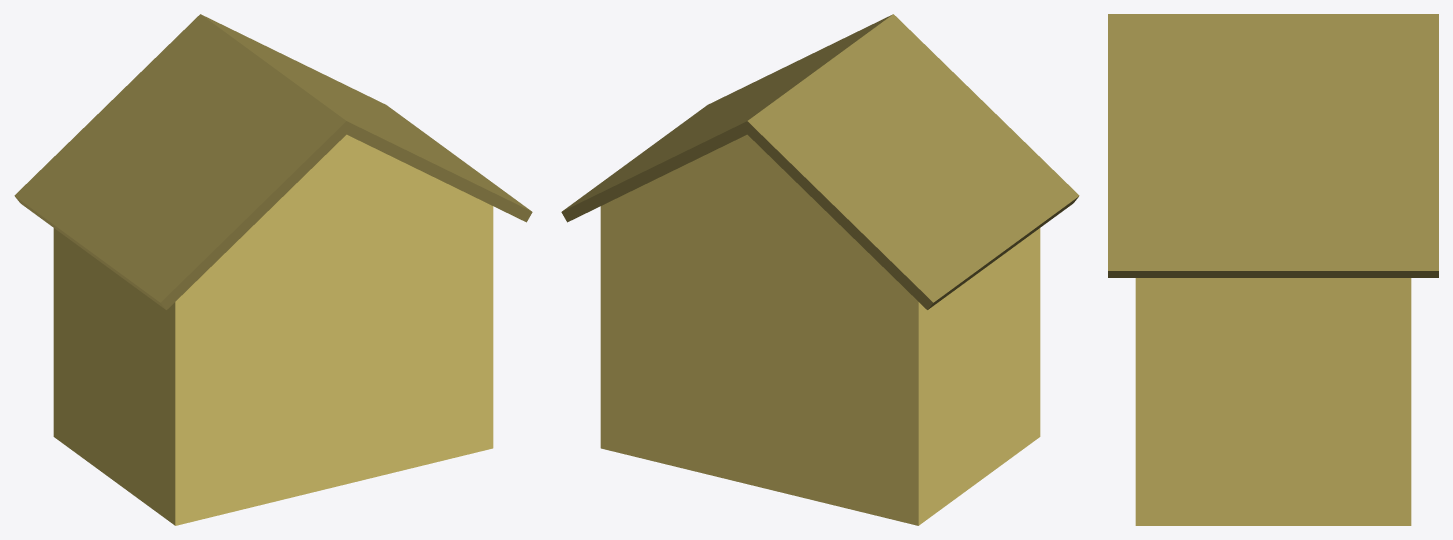
Rendered from result.glb.
The picture shows the model from 3 angles, left to right: view 1: azimuth 30°, elevation 25°; view 2: azimuth 150°, elevation 25°; view 3: azimuth 270°, elevation 25°; orthographic projection. The views are drawn at different scales.
Parts seen in each view (by area): view 1: 83fb470d-868c-48aa-b5d0-6d1f8b6863b1__undefined, 9436cb4a-381a-494f-bfeb-eada64d224e3__undefined (×2); view 2: 83fb470d-868c-48aa-b5d0-6d1f8b6863b1__undefined, 9436cb4a-381a-494f-bfeb-eada64d224e3__undefined (×2); view 3: 9436cb4a-381a-494f-bfeb-eada64d224e3__undefined, 83fb470d-868c-48aa-b5d0-6d1f8b6863b1__undefined.
Boxes of the visible parts, x1,y1,x2,y2 form: 83fb470d-868c-48aa-b5d0-6d1f8b6863b1__undefined: [53, 134, 493, 525]; 9436cb4a-381a-494f-bfeb-eada64d224e3__undefined (×2): [14, 14, 532, 309]; 83fb470d-868c-48aa-b5d0-6d1f8b6863b1__undefined: [600, 134, 1040, 525]; 9436cb4a-381a-494f-bfeb-eada64d224e3__undefined (×2): [561, 14, 1079, 309]; 9436cb4a-381a-494f-bfeb-eada64d224e3__undefined: [1108, 14, 1438, 277]; 83fb470d-868c-48aa-b5d0-6d1f8b6863b1__undefined: [1135, 278, 1411, 525].
Bounding box in the file's own units: 882 × 849 × 600.
